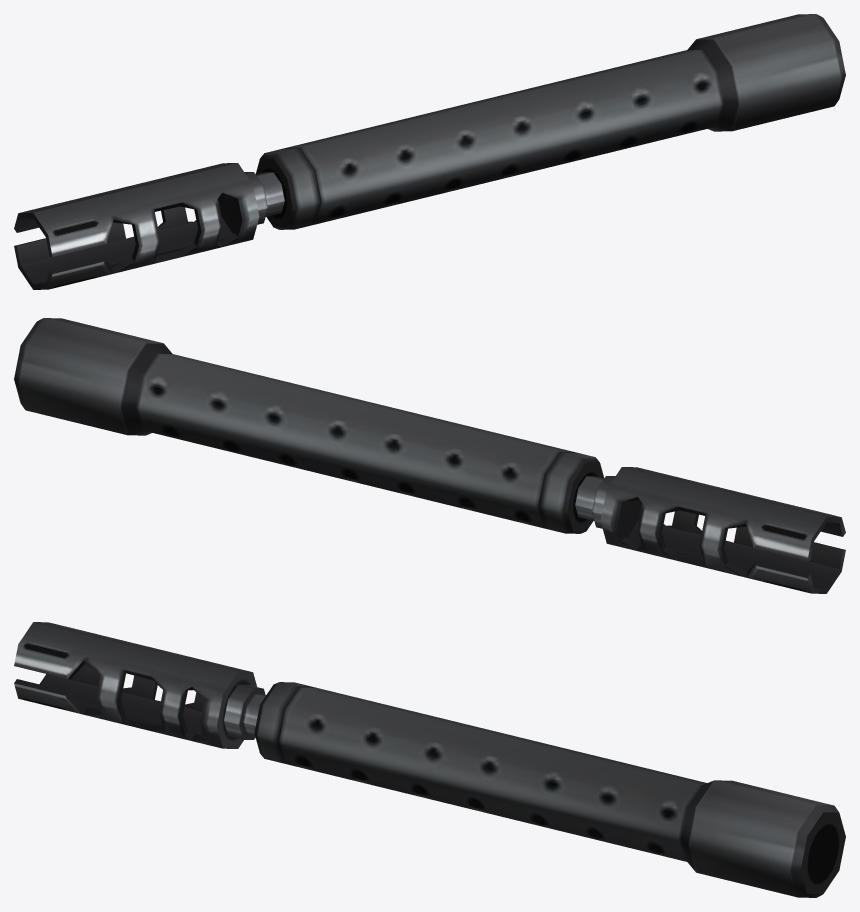
File: Legend_ExtendedBarrel_4_Mod.FBX
3 renders of one model, top to bottom at view 1: azimuth 30°, elevation 25°; view 2: azimuth 150°, elevation 25°; view 3: azimuth 330°, elevation 25°, orthographic.
Visible parts, largest first — view 1: Legend_ExtendedBarrel_4_Mod; view 2: Legend_ExtendedBarrel_4_Mod; view 3: Legend_ExtendedBarrel_4_Mod.
Boxes of the visible parts, x1,y1,x2,y2 form: Legend_ExtendedBarrel_4_Mod: (14,14,845,289); Legend_ExtendedBarrel_4_Mod: (14,318,845,593); Legend_ExtendedBarrel_4_Mod: (14,622,845,897).
Size of the model in its own units: 61.09 by 6.85 by 6.85.
